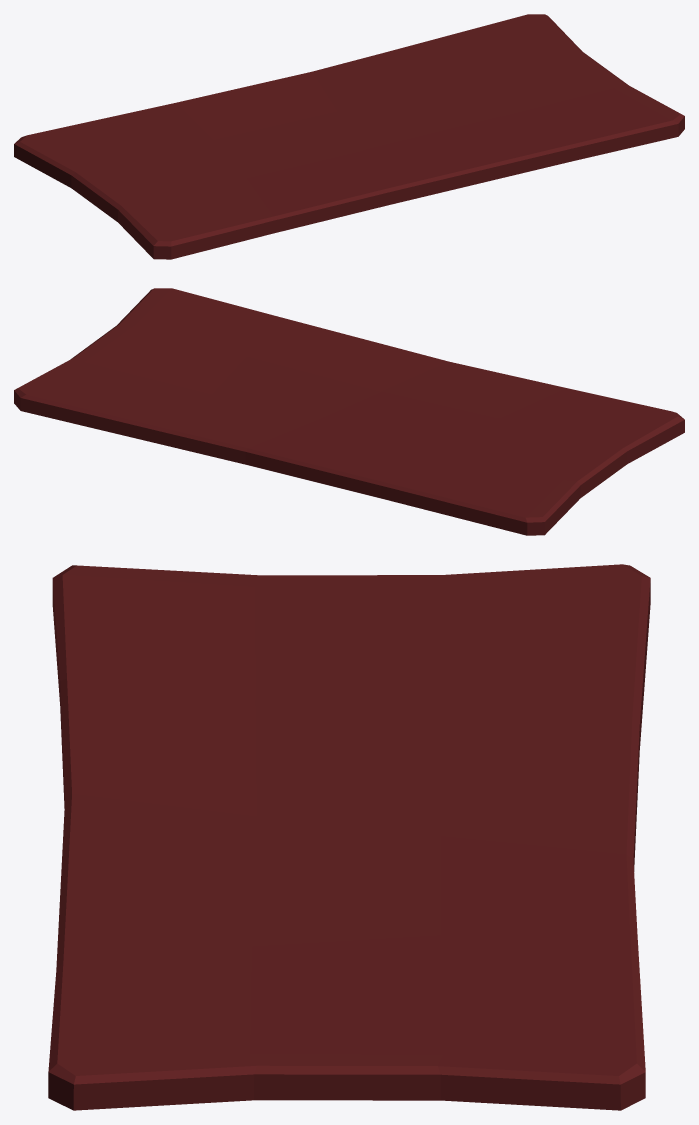
Rendered from Carpet02.fbx.
The picture shows the model from 3 angles, top to bottom: view 1: azimuth 30°, elevation 25°; view 2: azimuth 150°, elevation 25°; view 3: azimuth 270°, elevation 25°; orthographic projection. The views are drawn at different scales.
Parts seen in each view (by area): view 1: Carpet02; view 2: Carpet02; view 3: Carpet02.
Part boxes in pixels (x1,y1,x2,y2): Carpet02: (14,14,684,259); Carpet02: (14,288,684,535); Carpet02: (48,564,650,1110).
Size of the model in its own units: 316 by 9.96 by 155.
